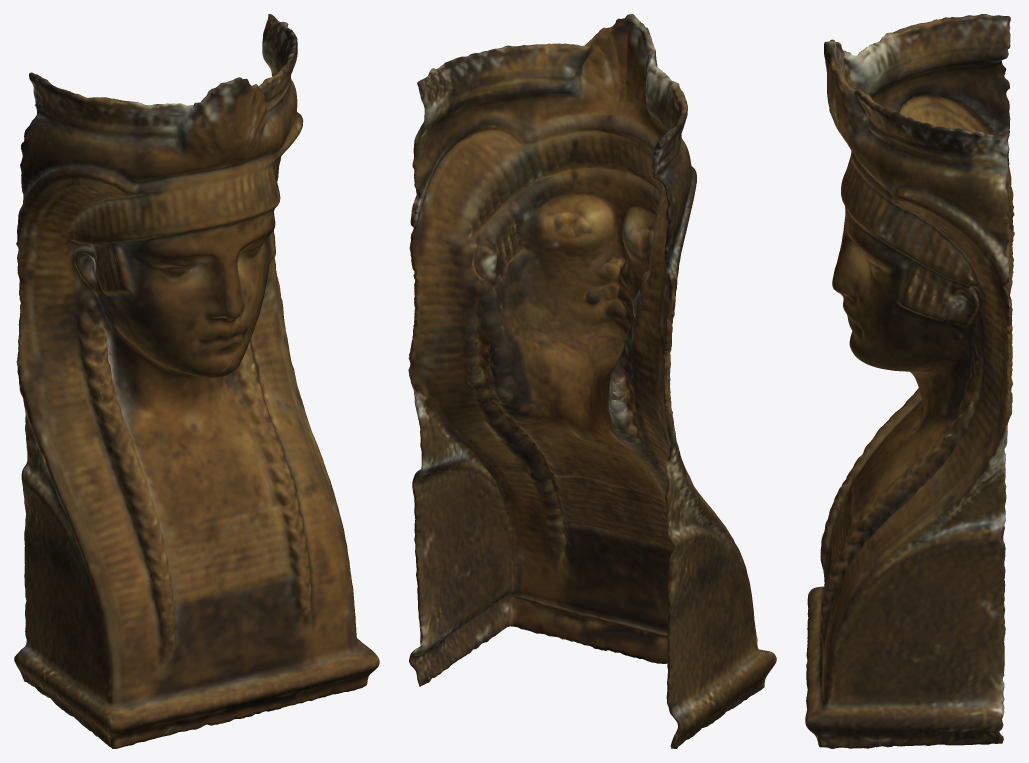
Rendered from egyptian_head.glb.
The picture shows the model from 3 angles, left to right: view 1: azimuth 30°, elevation 25°; view 2: azimuth 150°, elevation 25°; view 3: azimuth 270°, elevation 25°; orthographic projection.
Visible parts, largest first — view 1: Object_3, Object_2, Object_4, Object_5; view 2: Object_5, Object_4, Object_2, Object_3; view 3: Object_2, Object_4, Object_3, Object_5.
Boxes of the visible parts, <box> form: Object_3: <box>14,23,370,731</box>; Object_2: <box>14,14,379,748</box>; Object_4: <box>20,72,369,746</box>; Object_5: <box>16,14,378,748</box>; Object_5: <box>408,14,757,730</box>; Object_4: <box>408,27,775,747</box>; Object_2: <box>410,14,776,748</box>; Object_3: <box>436,28,775,748</box>; Object_2: <box>805,15,1010,726</box>; Object_4: <box>807,14,1014,748</box>; Object_3: <box>806,24,985,708</box>; Object_5: <box>806,14,1014,748</box>.
Bounding box in the file's own units: 94.04 × 211 × 61.86.
1 material, 1 textured.
